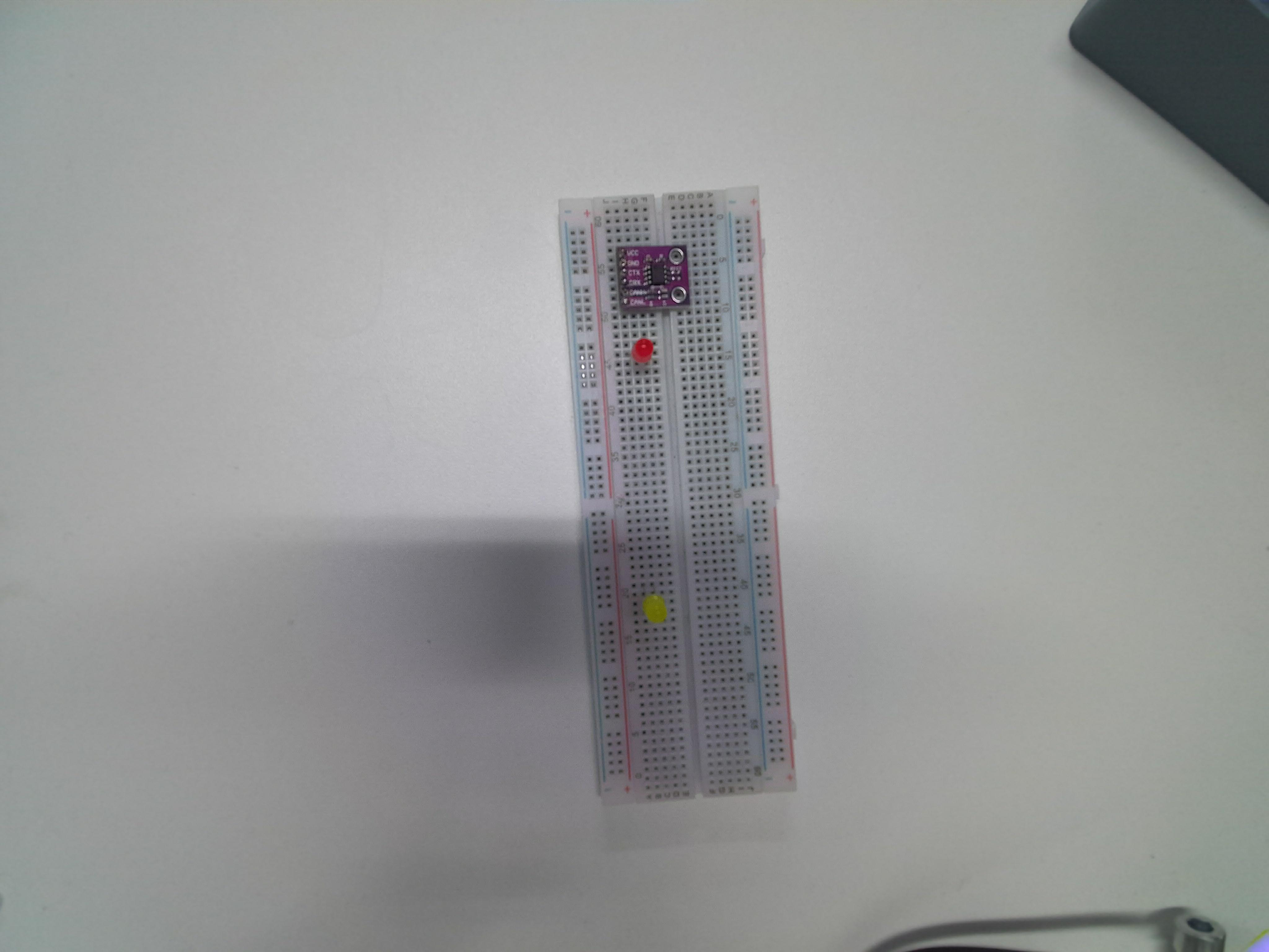base: (558, 183, 799, 810)
purple-board: (610, 240, 693, 315)
red-led: (629, 332, 657, 370)
yellow-led: (634, 586, 674, 634)
